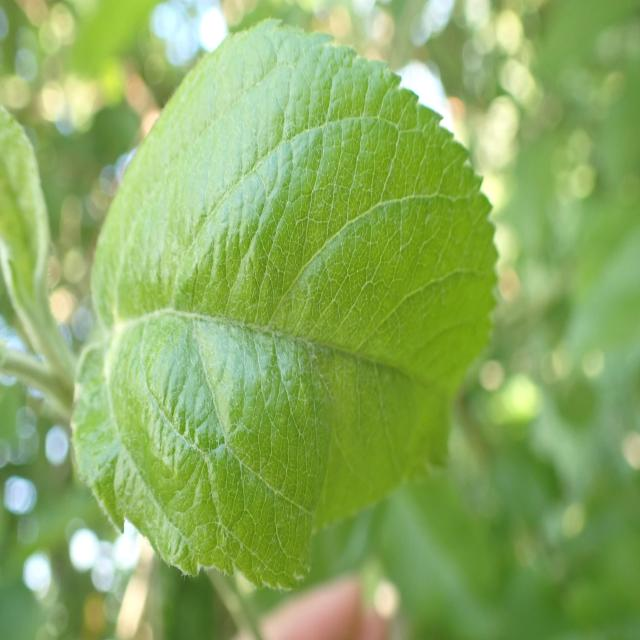healthy: (71, 20, 501, 594)
